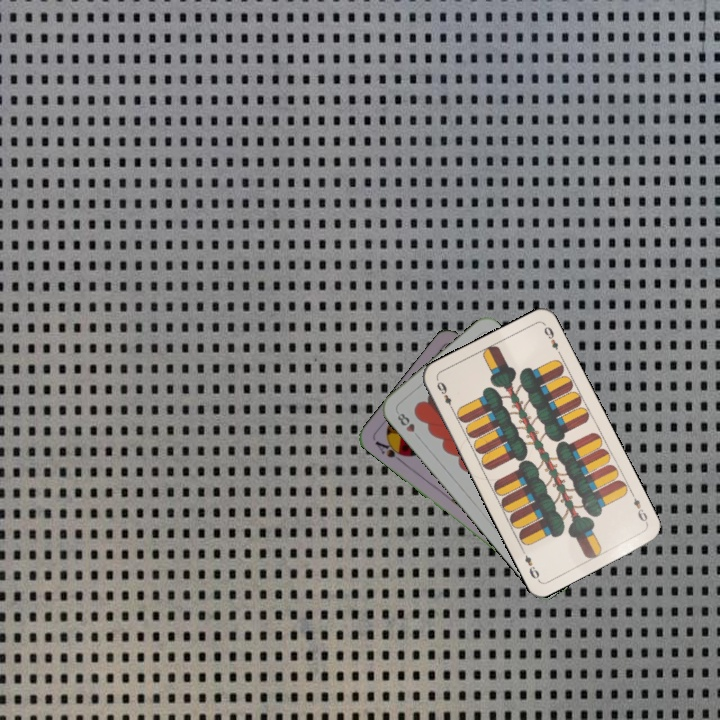E9: (432, 377, 457, 414), (627, 489, 651, 527)
H8: (393, 409, 423, 441)
SA: (371, 437, 409, 465)
